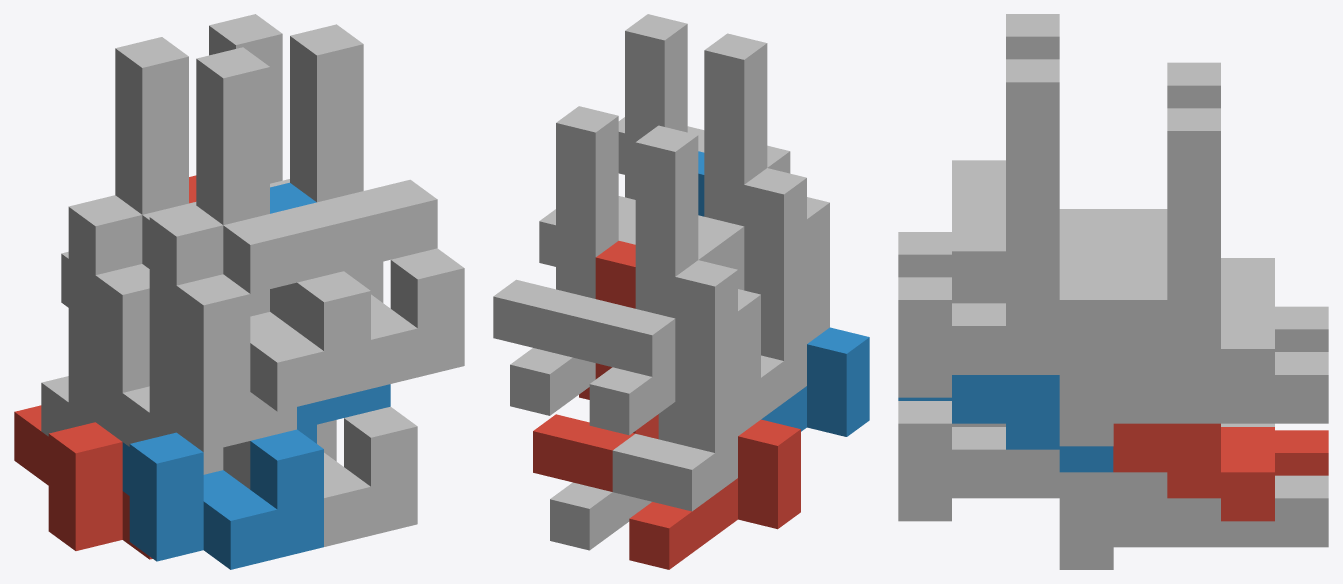
The model's file is tiling.obj.
The picture shows the model from 3 angles, left to right: view 1: azimuth 30°, elevation 25°; view 2: azimuth 150°, elevation 25°; view 3: azimuth 270°, elevation 25°; orthographic projection. The views are drawn at different scales.
Parts seen in each view (by area): view 1: copy_1_domain_2, copy_1_domain_4, copy_2_domain_4, copy_2_domain_8, copy_2_domain_2, copy_2_domain_3, copy_2_domain_1, copy_1_domain_6, copy_1_domain_8, copy_1_domain_1, copy_1_domain_3, copy_2_domain_7 (+3 smaller); view 2: copy_2_domain_1, copy_2_domain_3, copy_2_domain_7, copy_2_domain_2, copy_2_domain_4, copy_1_domain_1, copy_2_domain_8, copy_2_domain_5, copy_1_domain_2, copy_1_domain_3, copy_1_domain_5, copy_1_domain_7 (+1 smaller); view 3: copy_2_domain_8, copy_2_domain_7, copy_1_domain_5, copy_1_domain_7, copy_1_domain_6, copy_1_domain_8, copy_2_domain_5, copy_2_domain_6, copy_2_domain_3, copy_2_domain_4, copy_1_domain_1, copy_1_domain_3 (+1 smaller).
Boxes of the visible parts, <box> form: copy_1_domain_2: <box>122,429,323,569</box>; copy_1_domain_4: <box>176,271,370,411</box>; copy_2_domain_4: <box>196,47,343,316</box>; copy_2_domain_8: <box>290,24,437,285</box>; copy_2_domain_2: <box>122,205,296,474</box>; copy_2_domain_3: <box>115,37,196,268</box>; copy_2_domain_1: <box>41,195,142,441</box>; copy_1_domain_6: <box>223,406,417,546</box>; copy_1_domain_8: <box>270,248,464,388</box>; copy_1_domain_1: <box>14,405,152,559</box>; copy_1_domain_3: <box>61,251,149,392</box>; copy_2_domain_7: <box>209,14,289,187</box>; copy_2_domain_1: <box>612,260,760,511</box>; copy_2_domain_3: <box>572,125,721,376</box>; copy_2_domain_7: <box>493,106,635,357</box>; copy_2_domain_2: <box>744,168,829,419</box>; copy_2_domain_4: <box>698,33,790,272</box>; copy_1_domain_1: <box>629,419,800,569</box>; copy_2_domain_8: <box>618,14,704,222</box>; copy_2_domain_5: <box>533,241,658,491</box>; copy_1_domain_2: <box>761,327,869,436</box>; copy_1_domain_3: <box>589,289,760,435</box>; copy_1_domain_5: <box>550,417,675,550</box>; copy_1_domain_7: <box>510,348,595,415</box>; copy_2_domain_8: <box>952,59,1113,348</box>; copy_2_domain_7: <box>1113,108,1274,397</box>; copy_1_domain_5: <box>1059,472,1328,569</box>; copy_1_domain_7: <box>1059,349,1328,446</box>; copy_1_domain_6: <box>898,401,1167,521</box>; copy_1_domain_8: <box>898,277,1167,397</box>; copy_2_domain_5: <box>1113,423,1274,521</box>; copy_2_domain_6: <box>952,375,1113,472</box>; copy_2_domain_3: <box>1113,62,1274,303</box>; copy_2_domain_4: <box>952,14,1113,254</box>; copy_1_domain_1: <box>1275,430,1328,475</box>; copy_1_domain_3: <box>1275,306,1328,351</box>.
Bounding box in the file's own units: 6 × 10 × 8.
